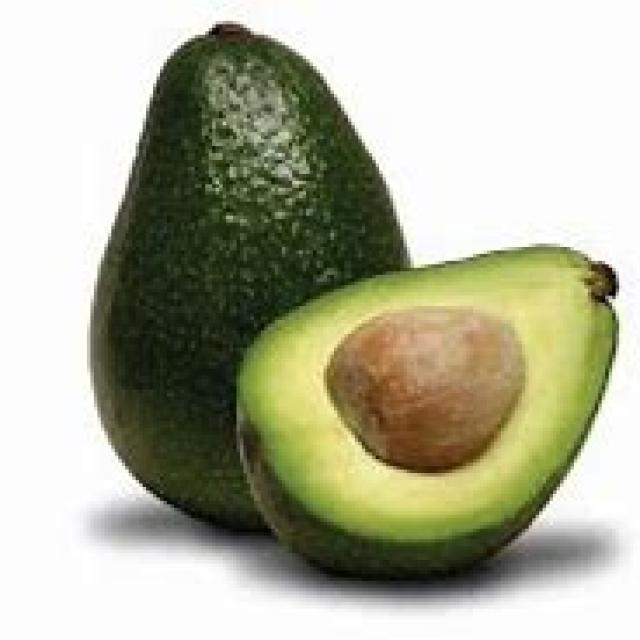Avocado: (215, 245, 630, 598), (88, 31, 247, 540)
